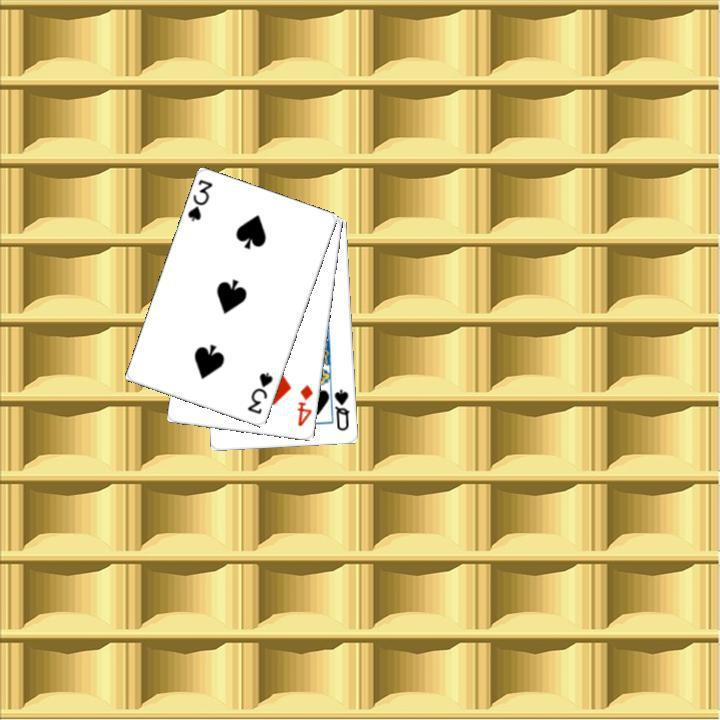3: (243, 368, 275, 417), (183, 175, 215, 224)
4: (293, 381, 315, 429)
Q: (331, 385, 352, 433)
